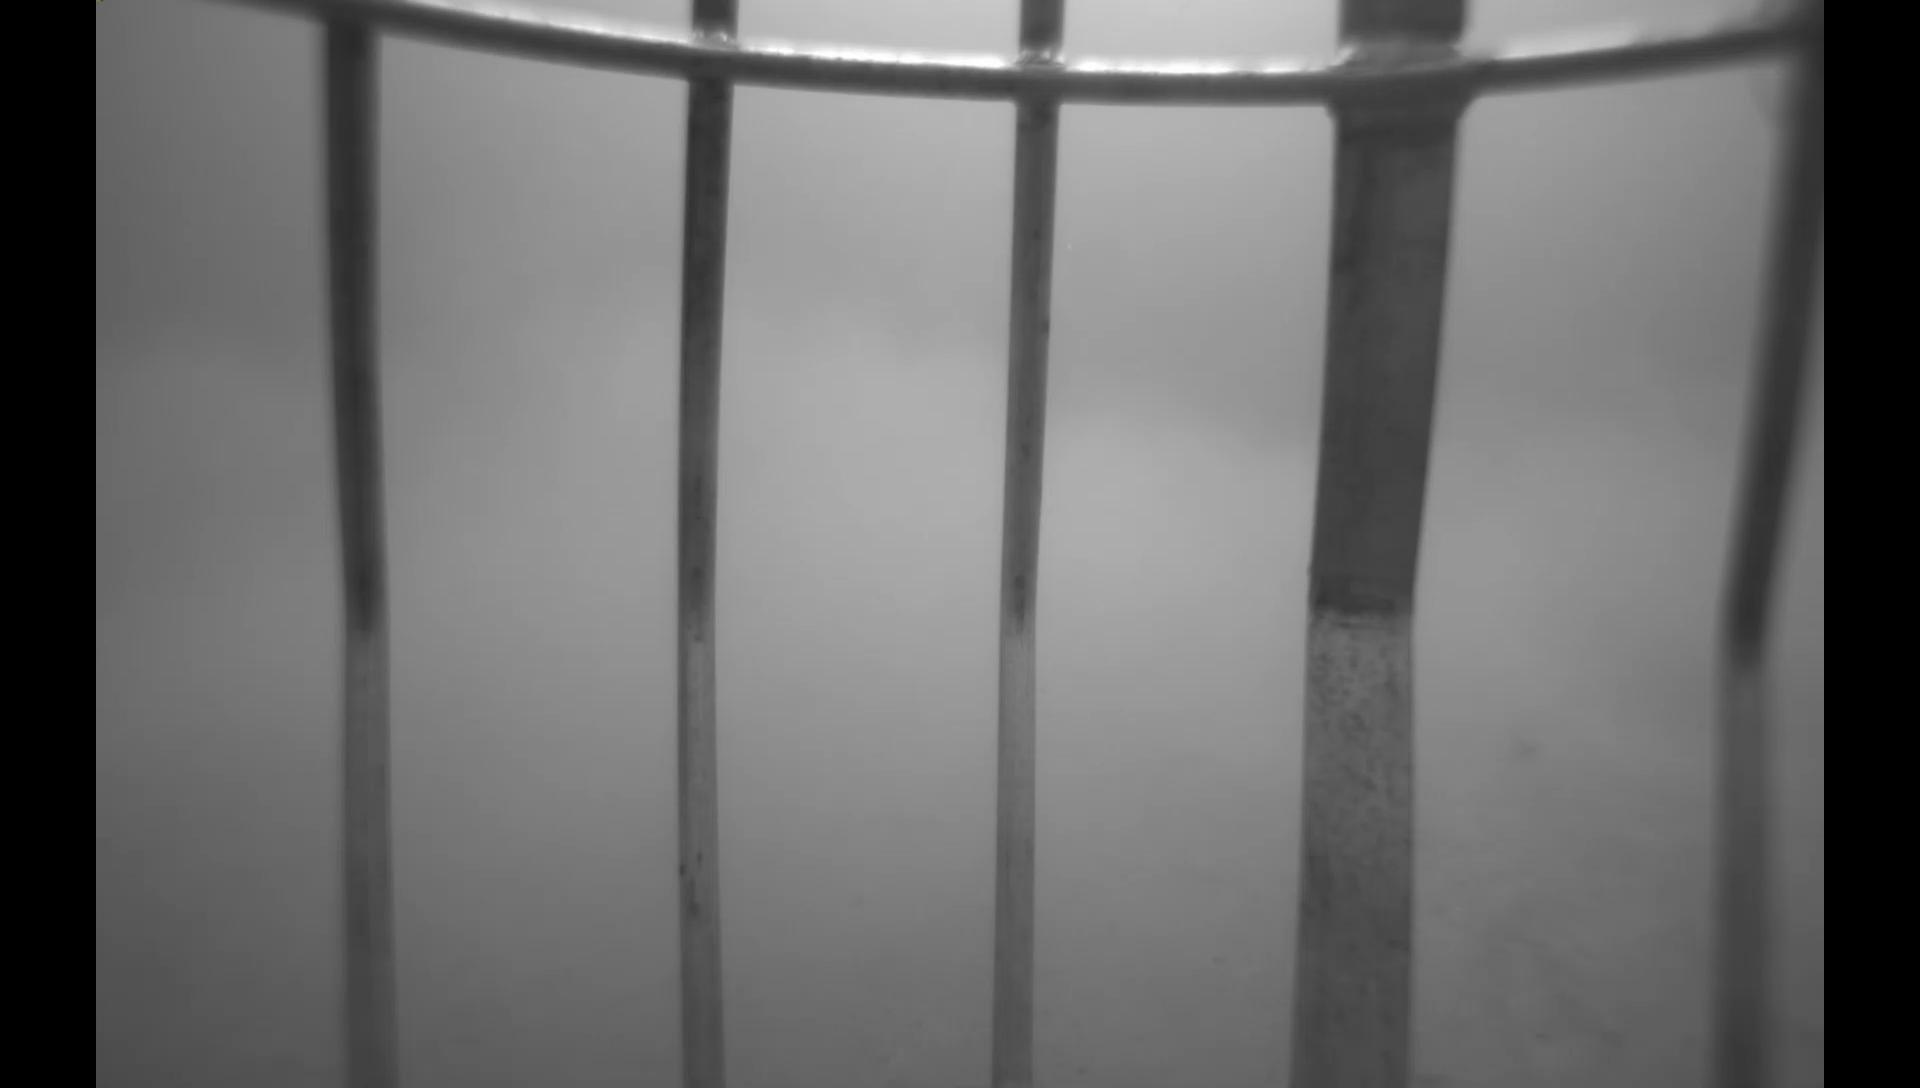OPHICHTHUSPUNCTICEPS-143150402: (1482, 727, 1563, 774)
